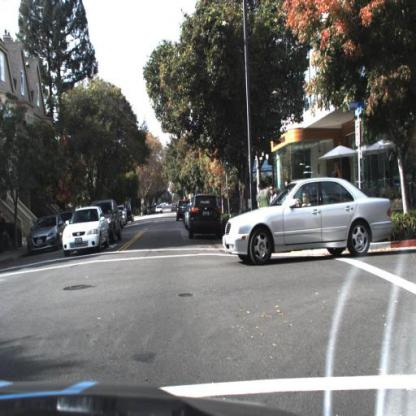car: (222, 176, 393, 268), (62, 205, 111, 258), (28, 213, 66, 257), (190, 193, 222, 238), (103, 199, 121, 245), (176, 199, 188, 215), (156, 206, 164, 214)
